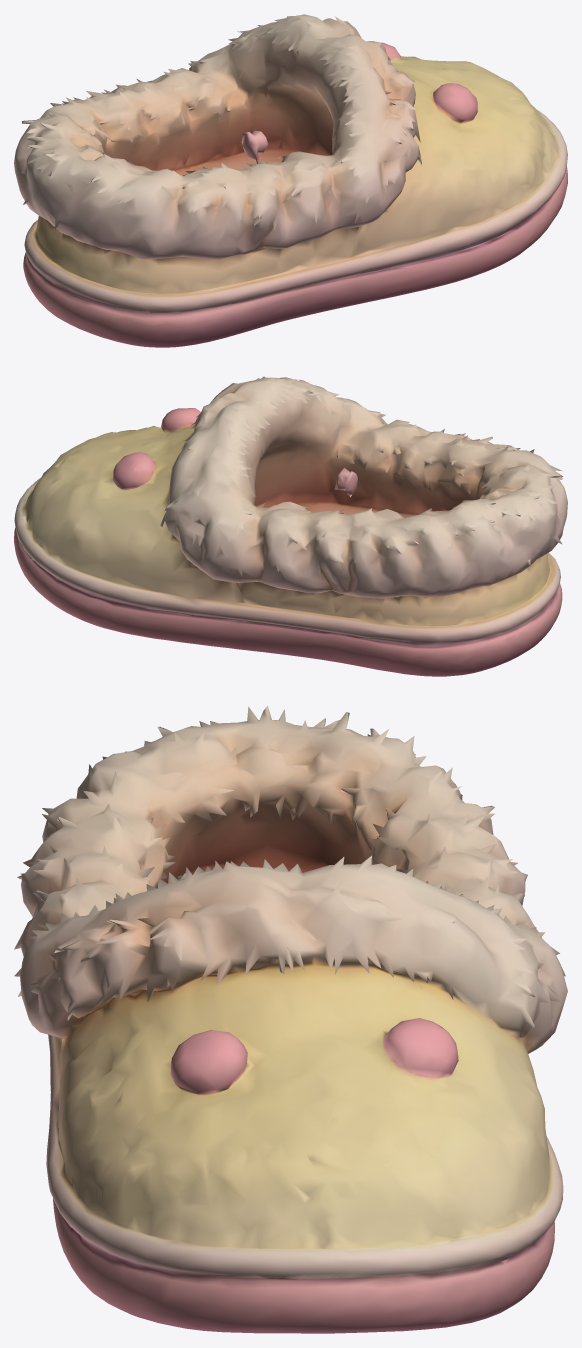
Rendered from slipper_h3.glb.
The picture shows the model from 3 angles, top to bottom: view 1: azimuth 30°, elevation 25°; view 2: azimuth 150°, elevation 25°; view 3: azimuth 270°, elevation 25°; orthographic projection. The views are drawn at different scales.
Visible parts, largest first — view 1: tripo_node_1f6f8b15-75ea-4806-872e-bf91a535782c; view 2: tripo_node_1f6f8b15-75ea-4806-872e-bf91a535782c; view 3: tripo_node_1f6f8b15-75ea-4806-872e-bf91a535782c.
Boxes of the visible parts, box(x1,y1,x2,y2) form: tripo_node_1f6f8b15-75ea-4806-872e-bf91a535782c: box(14, 14, 567, 347); tripo_node_1f6f8b15-75ea-4806-872e-bf91a535782c: box(14, 376, 567, 676); tripo_node_1f6f8b15-75ea-4806-872e-bf91a535782c: box(14, 705, 567, 1333).
Size of the model in its own units: 1 by 0.3931 by 0.5693.
Materials: 1 (1 with a texture image).
